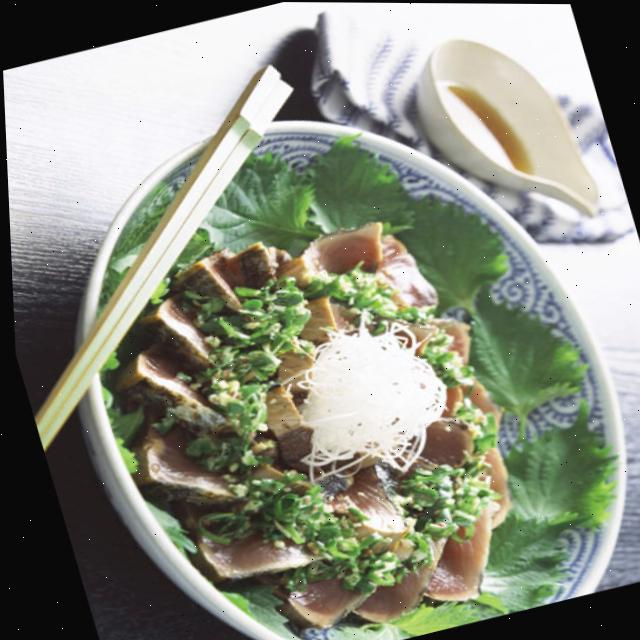熟制海鲜: (4, 108, 640, 640)
